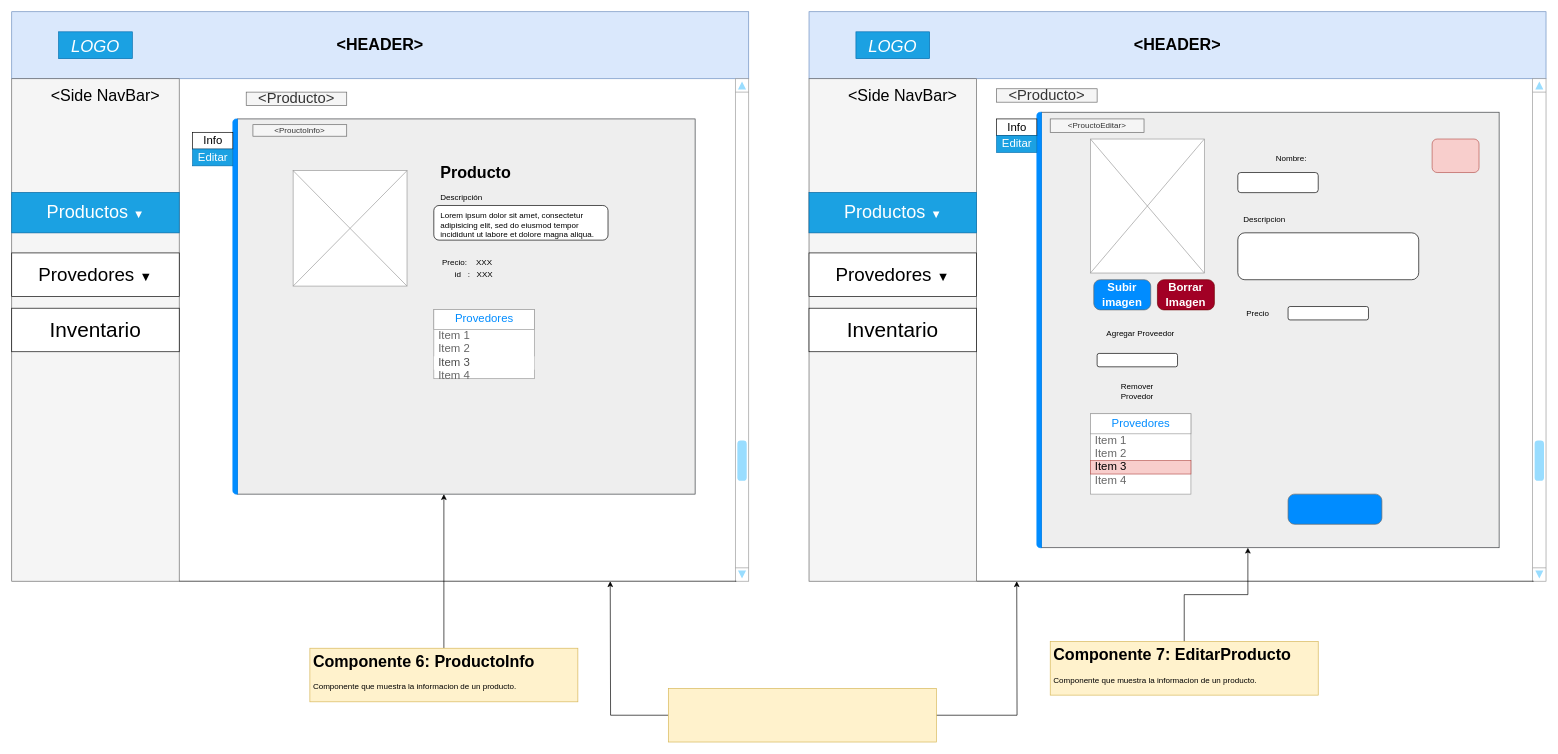
Image size: 1558x754. Some labels were removed from this diagram. Here are the shapes that lost their labels. From the top down, the box of each, then its label:
(1431, 138, 1479, 173): Borrar Producto X
(1287, 493, 1382, 524): Aplicar cambios
(668, 688, 936, 742): Componente 8:Producto Componente que muestra la informacion de un producto.
